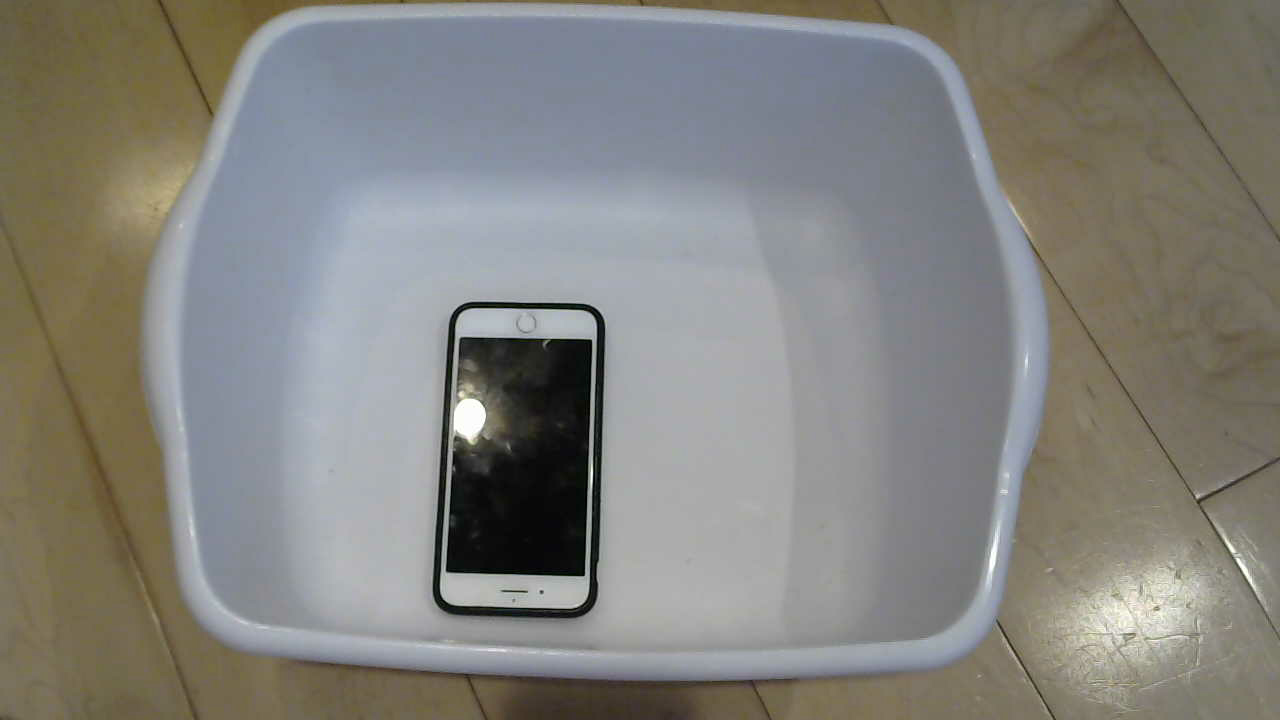phone: (425, 303, 610, 624)
